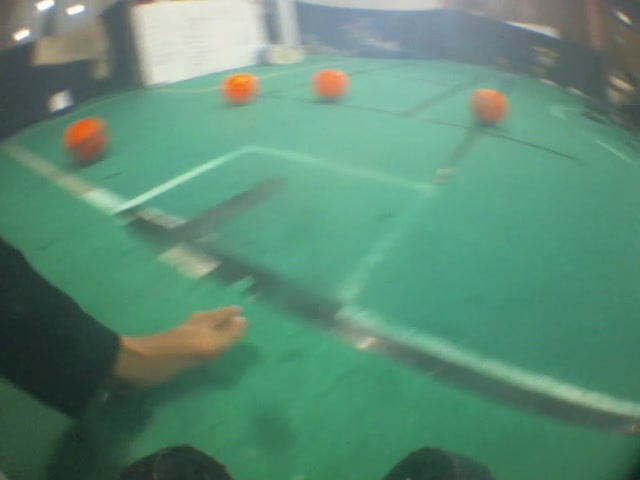ball: (59, 115, 114, 170), (464, 83, 508, 127), (304, 65, 349, 107), (217, 69, 259, 108)
